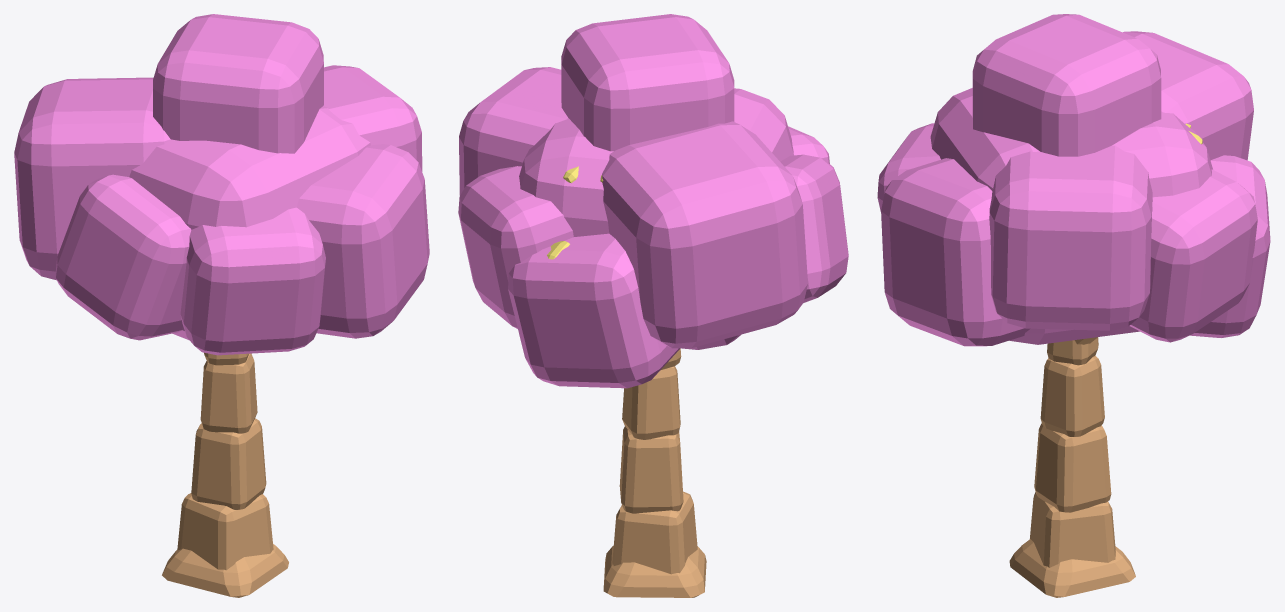
File: puff_tree.glb
The picture shows the model from 3 angles, left to right: view 1: azimuth 30°, elevation 25°; view 2: azimuth 150°, elevation 25°; view 3: azimuth 270°, elevation 25°; orthographic projection.
Parts seen in each view (by area): view 1: puff_tree; view 2: puff_tree; view 3: puff_tree.
Boxes of the visible parts, x1,y1,x2,y2 form: puff_tree: (14, 14, 429, 597); puff_tree: (458, 14, 848, 597); puff_tree: (877, 14, 1270, 597).
Bounding box in the file's own units: 6.89 × 10.24 × 6.76.
